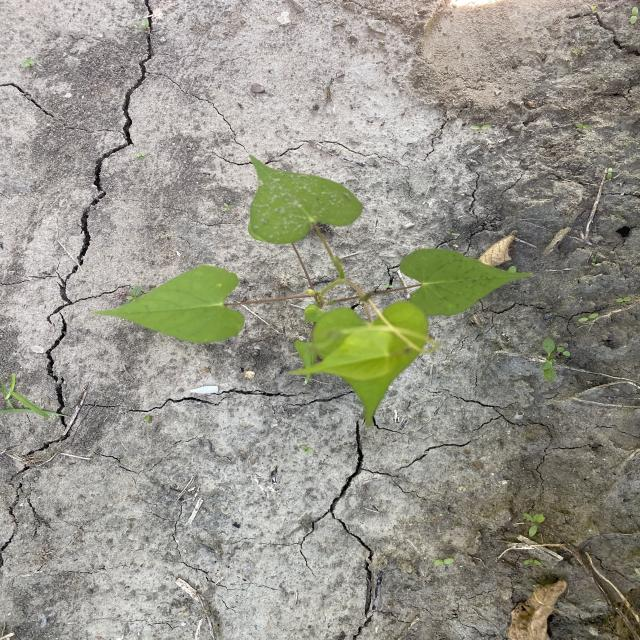MorningGlory: (87, 153, 536, 429)
